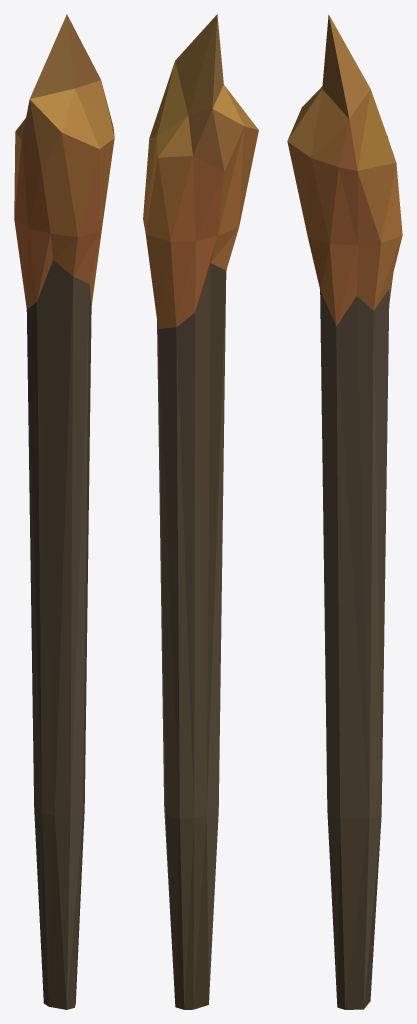
Rendered from Prop-CaveTorchC.fbx.
3 views of the same model, side by side, from view 1: azimuth 90°, elevation 25°; view 2: azimuth 150°, elevation 25°; view 3: azimuth 330°, elevation 25° (orthographic).
Parts seen in each view (by area): view 1: Prop-CaveTorchC; view 2: Prop-CaveTorchC; view 3: Prop-CaveTorchC.
Part boxes in pixels (x1,y1,x2,y2): Prop-CaveTorchC: [14, 14, 114, 1009]; Prop-CaveTorchC: [143, 14, 258, 1009]; Prop-CaveTorchC: [287, 14, 402, 1009].
Bounding box in the file's own units: 16.91 × 170 × 15.48.
